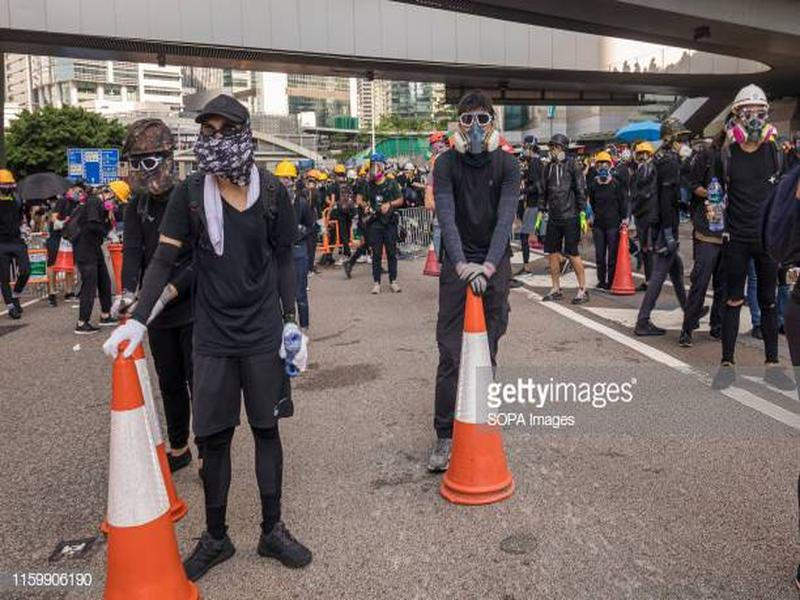Cone: (604, 221, 643, 296)
